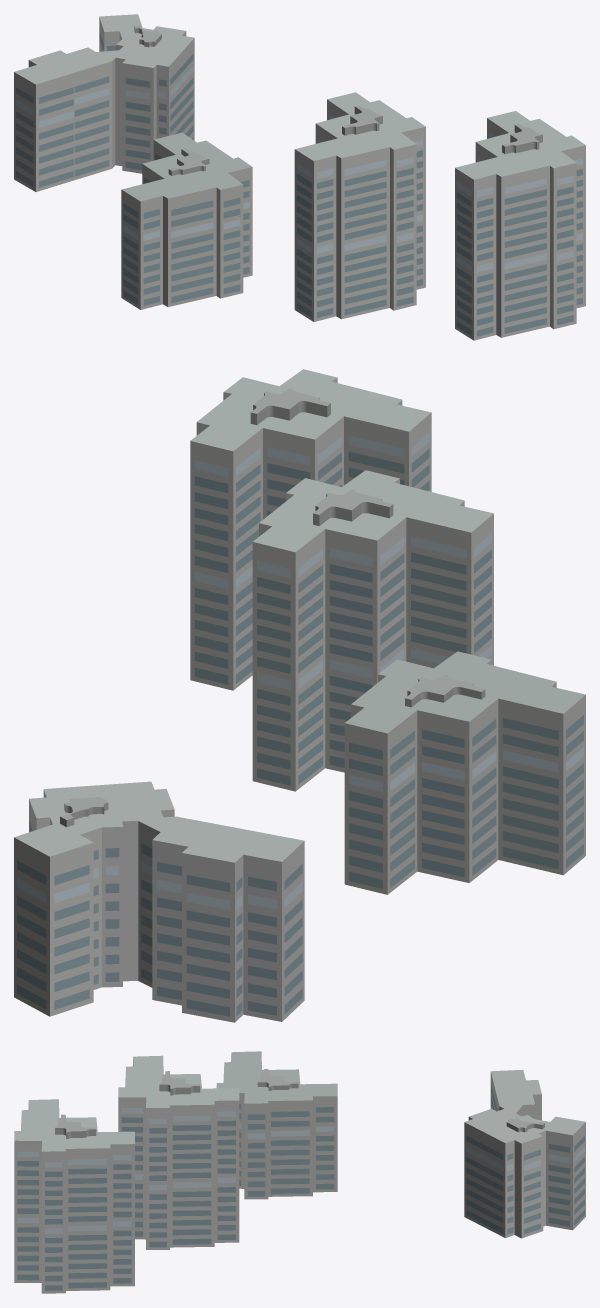
File: apt-a13375908.glb
The picture shows the model from 3 angles, top to bottom: view 1: azimuth 30°, elevation 25°; view 2: azimuth 150°, elevation 25°; view 3: azimuth 270°, elevation 25°; orthographic projection. The views are drawn at different scales.
Visible parts, largest first — view 1: apt-a13375908; view 2: apt-a13375908; view 3: apt-a13375908.
Part boxes in pixels (box(x1,y1,x2,y2)): apt-a13375908: box(14, 14, 585, 340); apt-a13375908: box(14, 369, 585, 1022); apt-a13375908: box(14, 1051, 585, 1293).
Bounding box in the file's own units: 90.82 × 43 × 150.
